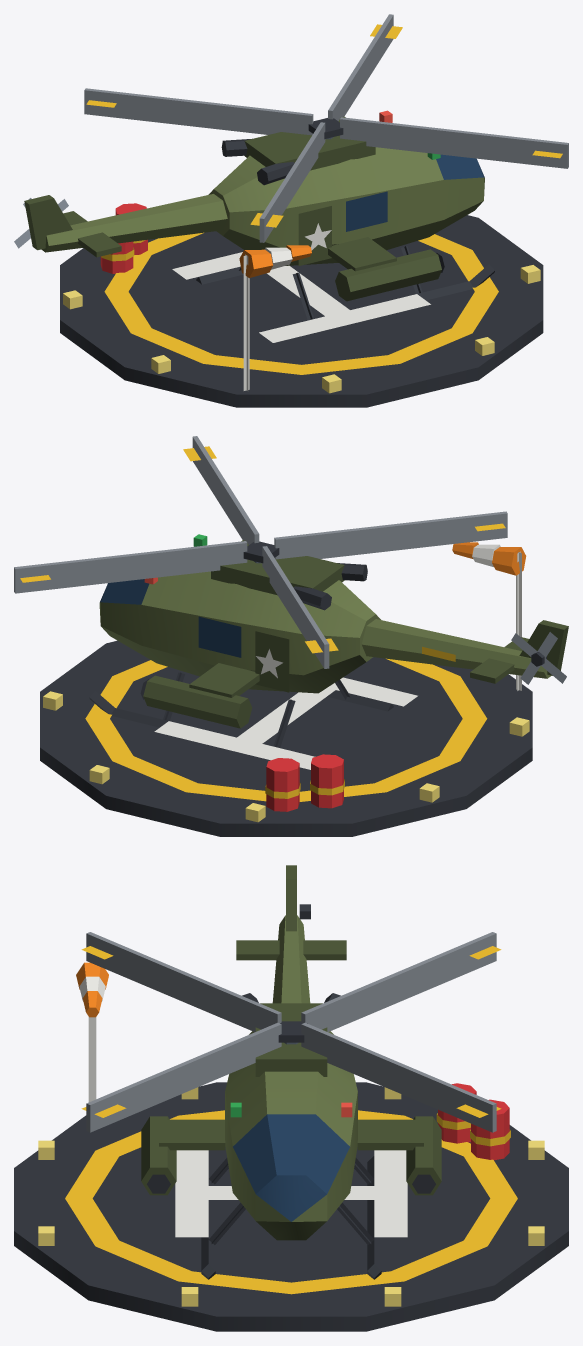
Rendered from heli_parked.glb.
3 views of the same model, one above another, from view 1: azimuth 30°, elevation 25°; view 2: azimuth 150°, elevation 25°; view 3: azimuth 270°, elevation 25° (orthographic). The views are drawn at different scales.
Parts seen in each view (by area): view 1: Body; view 2: Body; view 3: Body.
Boxes of the visible parts, x1=… form: Body: x1=14, y1=14, x2=568, y2=407; Body: x1=14, y1=436, x2=568, y2=836; Body: x1=14, y1=865, x2=568, y2=1331.
Bounding box in the file's own units: 1.18 × 0.4195 × 1.
